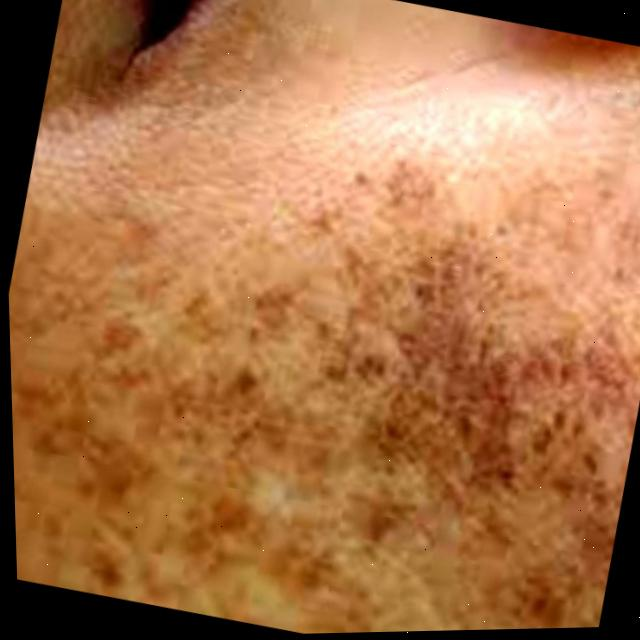Melasma: (3, 89, 640, 640)
